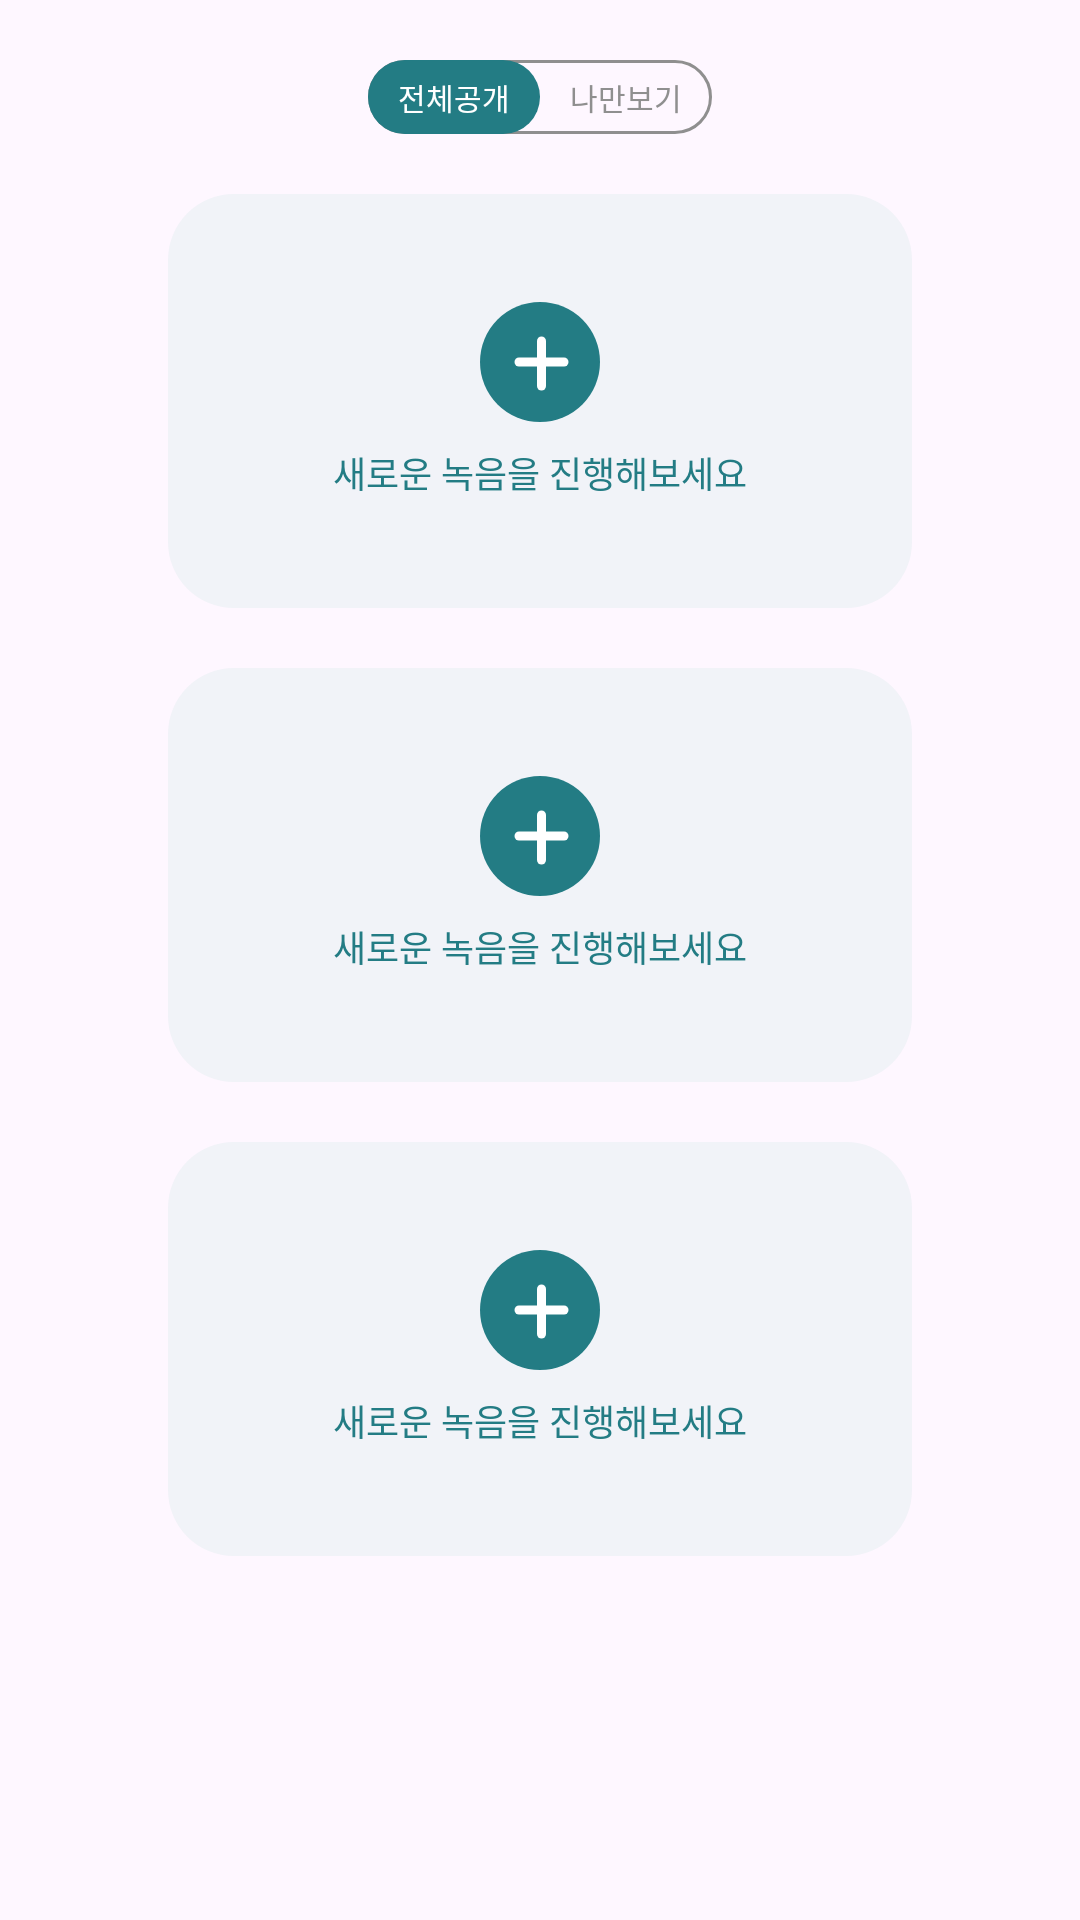

Named icons in this screenshot (1080px×1920px) and their centers, (x,y):
plus: (540,362), (540,836), (540,1310)
